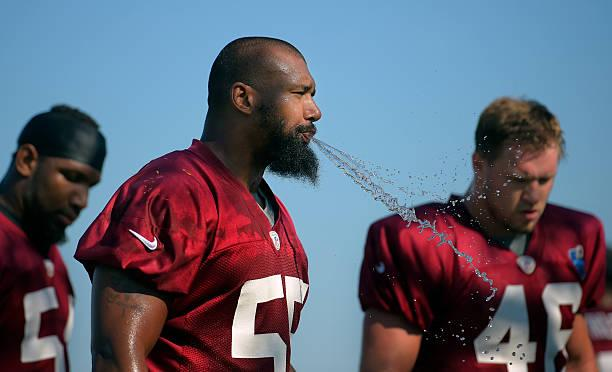Spitting: (184, 26, 358, 196)
